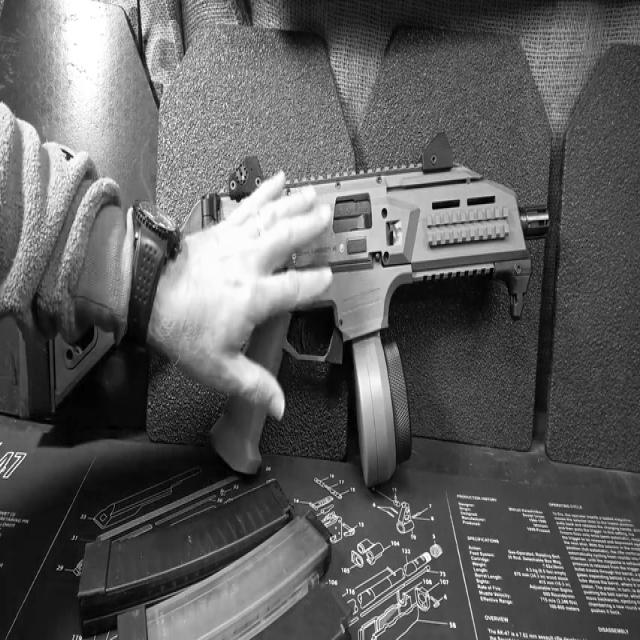Sub-machine-gun: (203, 154, 564, 436)
